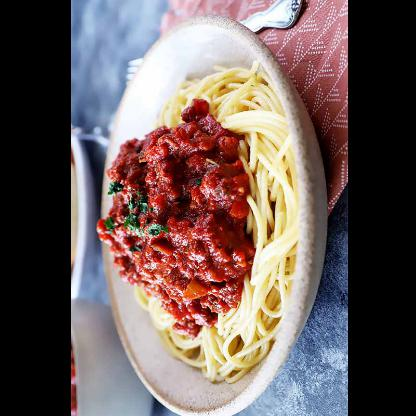spaghetti: (96, 60, 296, 384)
